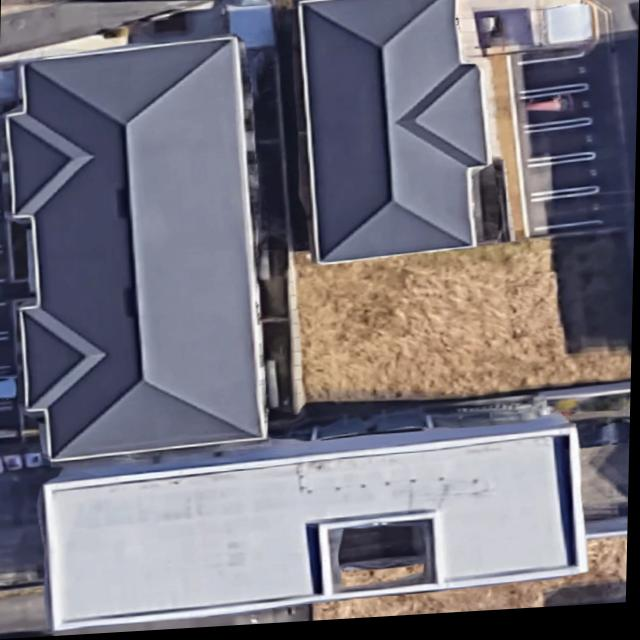Batiment: (46, 422, 589, 632), (6, 40, 265, 461), (299, 0, 488, 267)
